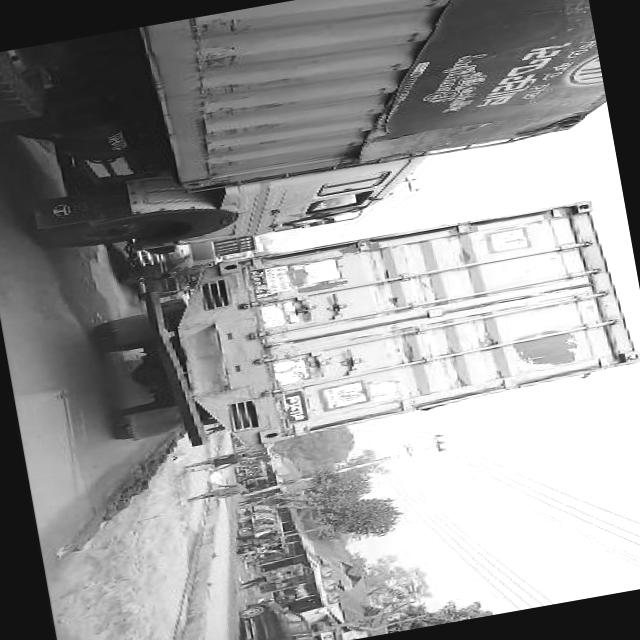car: (231, 591, 321, 640), (120, 245, 198, 295)
motorcycle: (242, 521, 291, 563), (242, 510, 284, 530), (238, 501, 276, 518), (239, 460, 268, 478)
truck: (0, 0, 610, 279), (95, 198, 640, 462)
